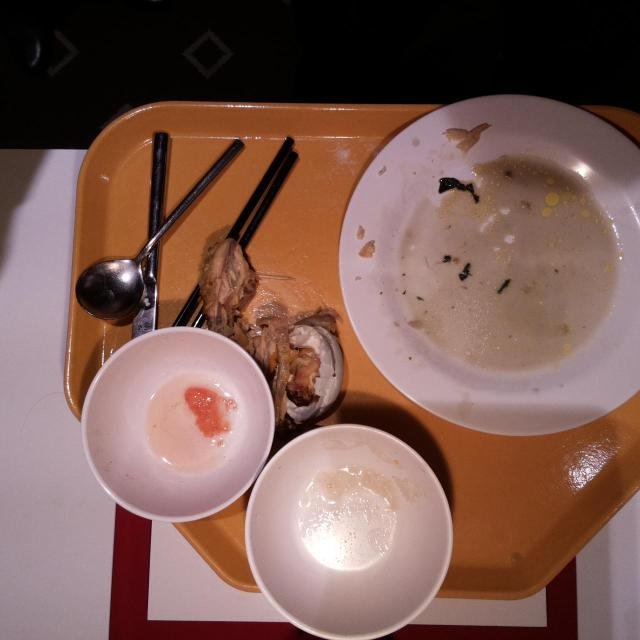Bone: (201, 237, 254, 333), (272, 326, 292, 426)
Egg-shell: (282, 326, 346, 422)
